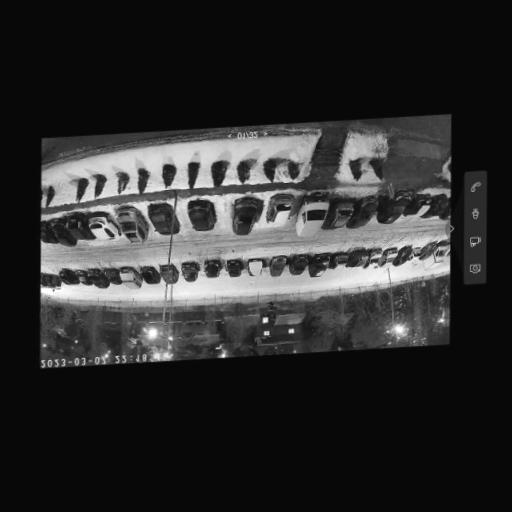busy: (299, 198, 350, 232), (227, 197, 262, 236), (329, 200, 373, 230), (294, 195, 329, 232), (186, 198, 221, 234), (42, 216, 77, 249), (116, 207, 147, 244), (377, 193, 413, 224), (321, 200, 356, 231), (147, 200, 175, 237), (83, 213, 118, 242), (266, 191, 293, 226), (403, 191, 430, 225), (420, 192, 446, 223), (352, 199, 378, 228), (113, 266, 144, 289), (78, 269, 112, 289), (140, 264, 165, 286), (285, 254, 311, 275), (395, 245, 422, 265), (242, 256, 267, 277), (177, 262, 201, 282), (379, 248, 403, 268), (420, 241, 446, 259), (344, 251, 370, 269), (60, 269, 86, 287), (221, 258, 244, 277), (201, 260, 224, 278), (268, 254, 285, 278), (362, 254, 385, 270), (328, 254, 350, 270), (160, 265, 178, 283)
